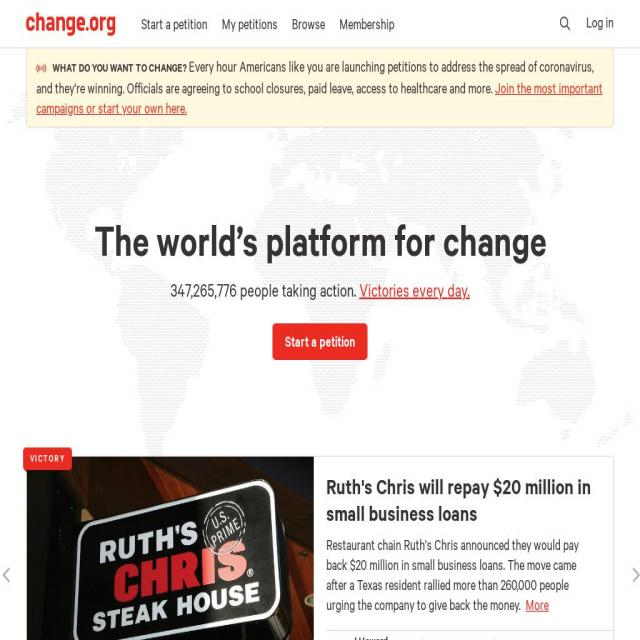navigation-links: (134, 12, 401, 38)
search: (581, 13, 621, 40), (552, 10, 576, 42)
